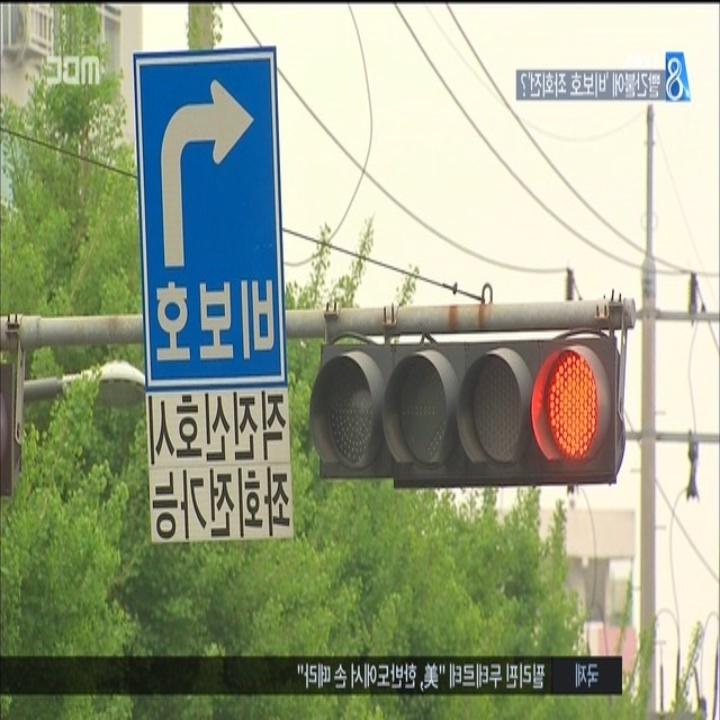right: (150, 71, 265, 273)
